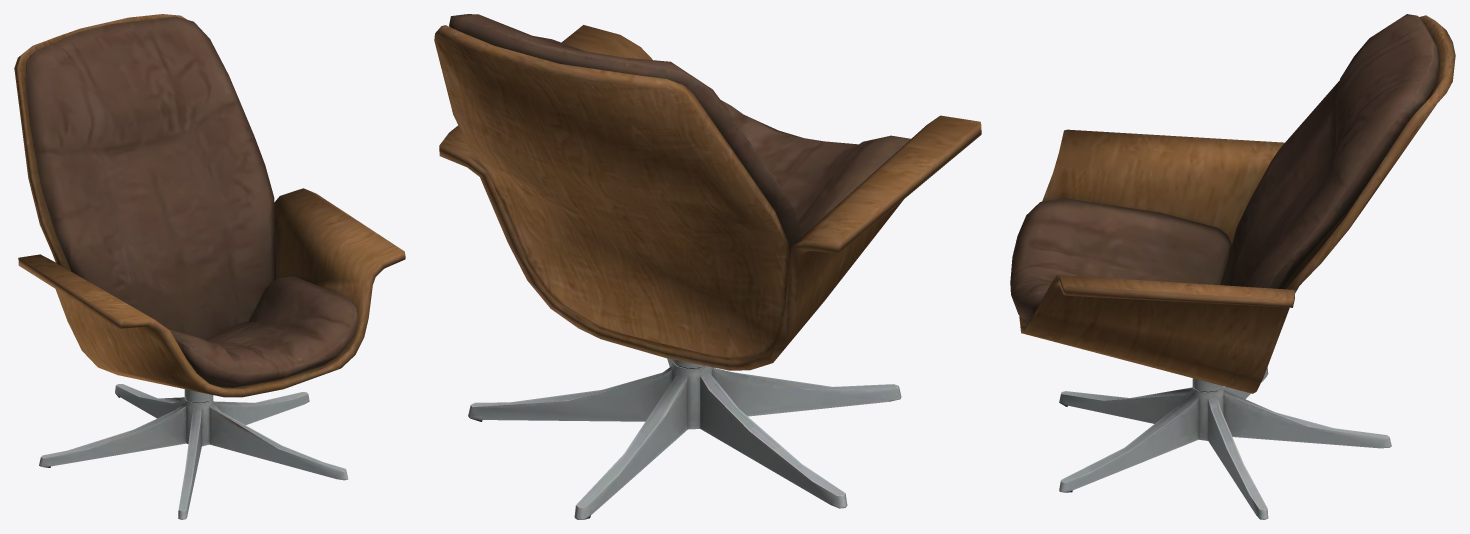
Rendered from lounge_chair.glb.
3 renders of one model, left to right at view 1: azimuth 30°, elevation 25°; view 2: azimuth 150°, elevation 25°; view 3: azimuth 270°, elevation 25°, orthographic. The views are drawn at different scales.
Parts seen in each view (by area): view 1: mid_century_lounge_chair; view 2: mid_century_lounge_chair; view 3: mid_century_lounge_chair.
Part boxes in pixels (x1=…): mid_century_lounge_chair: x1=14, y1=14, x2=405, y2=519; mid_century_lounge_chair: x1=434, y1=14, x2=981, y2=519; mid_century_lounge_chair: x1=1010, y1=14, x2=1455, y2=519.
Bounding box in the file's own units: 1 × 1.17 × 1.19.
Materials: 1 (1 with a texture image).
